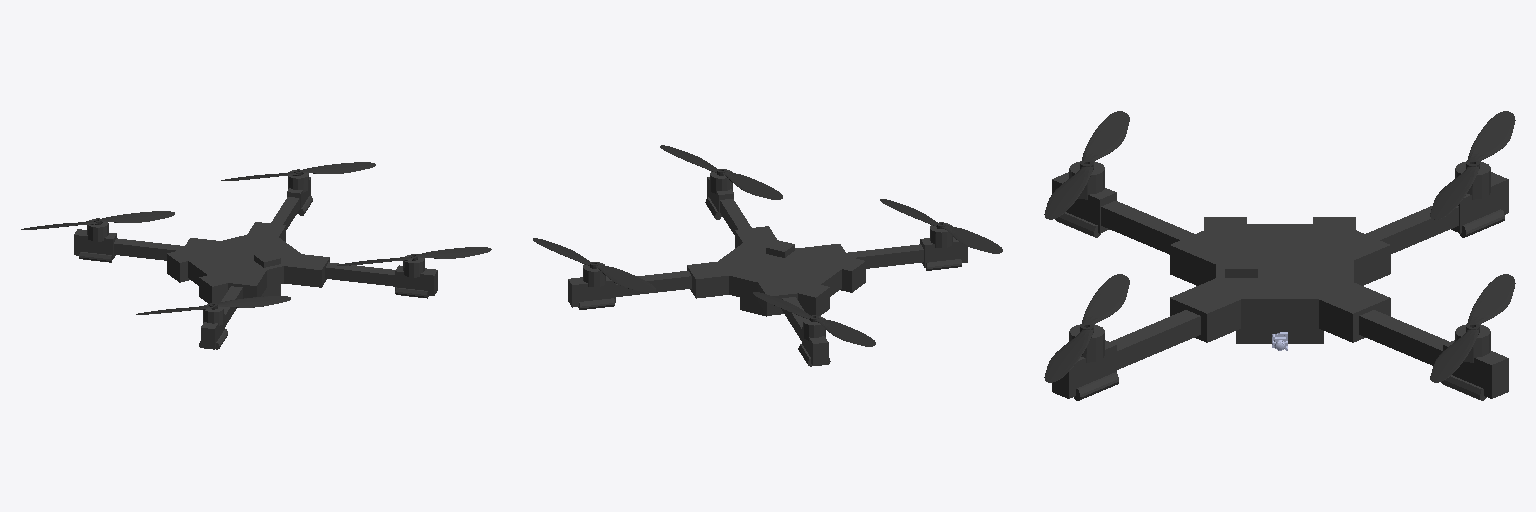
The robot description file, URDF, robot "frog_v2":
<?xml version="1.0" encoding="utf-8"?>
<!-- This URDF was automatically created by SolidWorks to URDF Exporter! Originally created by [author] ([email redacted]) 
     Commit Version: 1.5.1-0-g916b5db  Build Version: 1.5.7152.31018
     For more information, please see http://wiki.ros.org/sw_urdf_exporter -->
<robot
  name="frog_v2">
  <link
    name="base_link">
    <inertial>
      <origin
        xyz="-0.00299960531602334 0.000925780417924291 0.00663813217087633"
        rpy="0 0 0" />
      <mass
        value="1.05255015891803" />
      <inertia
        ixx="0.00192645755655797"
        ixy="1.37806252369402E-06"
        ixz="1.18685261964661E-07"
        iyy="0.00185880785608247"
        iyz="1.54609269435821E-09"
        izz="0.00363113089916627" />
    </inertial>
    <visual>
      <origin
        xyz="0 0 0"
        rpy="0 0 0" />
      <geometry>
        <mesh
          filename="model://robots/frog_v2/meshes/base_link.STL" />
      </geometry>
      <material
        name="">
        <color
          rgba="0.298039215686275 0.298039215686275 0.298039215686275 1" />
      </material>
    </visual>
    <collision>
      <origin
        xyz="0 0 0"
        rpy="0 0 0" />
      <geometry>
        <box size="0.52 0.52 0.16"/>
      </geometry>
      <!-- <origin
        xyz="0 0 0"
        rpy="0 0 0" />
      <geometry>
        <mesh
          filename="model://robots/frog_v2/meshes/base_link_col.STL" />
      </geometry> -->
    </collision>
  </link>
  <link
    name="prop_1">
    <inertial>
      <origin
        xyz="-5.65744966205817E-05 1.15709824216048E-05 -0.000132588817387688"
        rpy="0 0 0" />
      <mass
        value="0.033480102422425" />
      <inertia
        ixx="0.000185259926751763"
        ixy="-5.32093457830838E-05"
        ixz="2.24429568646842E-07"
        iyy="1.76760777869009E-05"
        iyz="4.06354928790603E-07"
        izz="0.000202707482260549" />
    </inertial>
    <visual>
      <origin
        xyz="0 0 0"
        rpy="0 0 0" />
      <geometry>
        <mesh
          filename="model://robots/frog_v2/meshes/prop_1.STL" />
      </geometry>
      <material
        name="">
        <color
          rgba="0.250980392156863 0.250980392156863 0.250980392156863 1" />
      </material>
    </visual>
    <collision>
      <origin
        xyz="0 0 0"
        rpy="0 0 0" />
      <geometry>
        <mesh
          filename="model://robots/frog_v2/meshes/prop_1_col.STL" />
      </geometry>
    </collision>
  </link>
  <joint
    name="prop_1_joint"
    type="revolute">
    <origin
      xyz="0.23937 -0.23937 0.073136"
      rpy="0 0 1.5708" />
    <parent
      link="base_link" />
    <child
      link="prop_1" />
    <axis
      xyz="0 0 -1" />
    <limit
      lower="-1E+16"
      upper="1E+16"
      effort="100"
      velocity="100" />
    <dynamics
      damping="0.004" />
  </joint>
  <link
    name="prop_2">
    <inertial>
      <origin
        xyz="-5.66044885891293E-05 1.15949242203428E-05 -0.000132594734223196"
        rpy="0 0 0" />
      <mass
        value="0.0334799929695856" />
      <inertia
        ixx="0.000185259920507297"
        ixy="-5.32093515361335E-05"
        ixz="2.24430513355787E-07"
        iyy="1.76760743208164E-05"
        iyz="4.06353674849625E-07"
        izz="0.000202707472860171" />
    </inertial>
    <visual>
      <origin
        xyz="0 0 0"
        rpy="0 0 0" />
      <geometry>
        <mesh
          filename="model://robots/frog_v2/meshes/prop_2.STL" />
      </geometry>
      <material
        name="">
        <color
          rgba="0.250980392156863 0.250980392156863 0.250980392156863 1" />
      </material>
    </visual>
    <collision>
      <origin
        xyz="0 0 0"
        rpy="0 0 0" />
      <geometry>
        <mesh
          filename="model://robots/frog_v2/meshes/prop_2_col.STL" />
      </geometry>
    </collision>
  </link>
  <joint
    name="prop_2_joint"
    type="revolute">
    <origin
      xyz="-0.23937 -0.23937 0.073136"
      rpy="0 0 1.5708" />
    <parent
      link="base_link" />
    <child
      link="prop_2" />
    <axis
      xyz="0 0 -1" />
    <limit
      lower="-1E+16"
      upper="1E+16"
      effort="100"
      velocity="100" />
    <dynamics
      damping="0.004" />
  </joint>
  <link
    name="prop_3">
    <inertial>
      <origin
        xyz="-5.66044881094574E-05 1.15949255357628E-05 -0.000132594734251062"
        rpy="0 0 0" />
      <mass
        value="0.0334799929697736" />
      <inertia
        ixx="0.000185259920508852"
        ixy="-5.32093515367757E-05"
        ixz="2.24430513413887E-07"
        iyy="1.76760743210929E-05"
        iyz="4.06353674978187E-07"
        izz="0.000202707472861994" />
    </inertial>
    <visual>
      <origin
        xyz="0 0 0"
        rpy="0 0 0" />
      <geometry>
        <mesh
          filename="model://robots/frog_v2/meshes/prop_3.STL" />
      </geometry>
      <material
        name="">
        <color
          rgba="0.250980392156863 0.250980392156863 0.250980392156863 1" />
      </material>
    </visual>
    <collision>
      <origin
        xyz="0 0 0"
        rpy="0 0 0" />
      <geometry>
        <mesh
          filename="model://robots/frog_v2/meshes/prop_3_col.STL" />
      </geometry>
    </collision>
  </link>
  <joint
    name="prop_3_joint"
    type="revolute">
    <origin
      xyz="-0.23937 0.23937 0.073137"
      rpy="0 0 1.5708" />
    <parent
      link="base_link" />
    <child
      link="prop_3" />
    <axis
      xyz="0 0 -1" />
    <limit
      lower="-1E+16"
      upper="1E+16"
      effort="100"
      velocity="100" />
    <dynamics
      damping="0.004" />
  </joint>
  <link
    name="prop_4">
    <inertial>
      <origin
        xyz="-5.66044880474792E-05 1.1594925442393E-05 -0.000132594734234714"
        rpy="0 0 0" />
      <mass
        value="0.0334799929695797" />
      <inertia
        ixx="0.000185259920507247"
        ixy="-5.32093515361025E-05"
        ixz="2.24430513407408E-07"
        iyy="1.76760743208018E-05"
        iyz="4.06353674961871E-07"
        izz="0.000202707472860101" />
    </inertial>
    <visual>
      <origin
        xyz="0 0 0"
        rpy="0 0 0" />
      <geometry>
        <mesh
          filename="model://robots/frog_v2/meshes/prop_4.STL" />
      </geometry>
      <material
        name="">
        <color
          rgba="0.250980392156863 0.250980392156863 0.250980392156863 1" />
      </material>
    </visual>
    <collision>
      <origin
        xyz="0 0 0"
        rpy="0 0 0" />
      <geometry>
        <mesh
          filename="model://robots/frog_v2/meshes/prop_4_col.STL" />
      </geometry>
    </collision>
  </link>
  <joint
    name="prop_4_joint"
    type="revolute">
    <origin
      xyz="0.23937 0.23937 0.073137"
      rpy="0 0 1.5708" />
    <parent
      link="base_link" />
    <child
      link="prop_4" />
    <axis
      xyz="0 0 -1" />
    <limit
      lower="-1E+16"
      upper="1E+16"
      effort="100"
      velocity="100" />
    <dynamics
      damping="0.004" />
  </joint>
  <link
    name="fpv_cam">
    <inertial>
      <origin
        xyz="-0.000284522561700459 2.24478693088385E-05 -2.47604221920578E-05"
        rpy="0 0 0" />
      <mass
        value="0.0030555548772708" />
      <inertia
        ixx="1.19469208624835E-07"
        ixy="5.01779840354612E-11"
        ixz="1.07145862877786E-09"
        iyy="6.57719949191097E-08"
        iyz="7.87453663944317E-09"
        izz="7.45619479559184E-08" />
    </inertial>
    <visual>
      <origin
        xyz="0 0 0"
        rpy="0 0 0" />
      <geometry>
        <mesh
          filename="model://robots/frog_v2/meshes/fpv_cam.STL" />
      </geometry>
      <material
        name="">
        <color
          rgba="0.792156862745098 0.819607843137255 0.933333333333333 1" />
      </material>
    </visual>
    <collision>
      <origin
        xyz="0 0 0"
        rpy="0 0 0" />
      <geometry>
        <mesh
          filename="model://robots/frog_v2/meshes/fpv_cam.STL" />
      </geometry>
    </collision>
  </link>
  <joint
    name="fpv_cam_joint"
    type="revolute">
    <origin
      xyz="0.092345 -1.7472E-05 -0.015"
      rpy="0 0.017453 0" />
    <parent
      link="base_link" />
    <child
      link="fpv_cam" />
    <axis
      xyz="0 1 0" />
    <limit
      lower="-0.61087"
      upper="1.5708"
      effort="100"
      velocity="100" />
    <dynamics
      damping="0.004" />
  </joint>
  <link
    name="D435">
    <inertial>
      <origin
        xyz="-0.000102529599412184 0.0004096441357057 0.000114713525274722"
        rpy="0 0 0" />
      <mass
        value="0.0553981578894608" />
      <inertia
        ixx="4.30081410924908E-05"
        ixy="3.16330256669316E-07"
        ixz="-1.37235008905661E-07"
        iyy="5.20161056831453E-06"
        iyz="1.91602335582947E-08"
        izz="4.24188446099882E-05" />
    </inertial>
    <visual>
      <origin
        xyz="0 0 0"
        rpy="0 0 0" />
      <geometry>
        <mesh
          filename="model://robots/frog_v2/meshes/D435.STL" />
      </geometry>
      <material
        name="">
        <color
          rgba="0.792156862745098 0.819607843137255 0.933333333333333 1" />
      </material>
    </visual>
    <collision>
      <origin
        xyz="0 0 0"
        rpy="0 0 0" />
      <geometry>
        <mesh
          filename="model://robots/frog_v2/meshes/D435.STL" />
      </geometry>
    </collision>
  </link>
  <joint
    name="D435_joint"
    type="revolute">
    <origin
      xyz="0.052 0 0.0186"
      rpy="0 0 0" />
    <parent
      link="base_link" />
    <child
      link="D435" />
    <axis
      xyz="0 1 0" />
    <limit
      lower="-0.61087"
      upper="1.5708"
      effort="100"
      velocity="100" />
    <dynamics
      damping="0.004" />
  </joint>
</robot>

--- Facts derived from the render (not from the file) ---
3 views of the same robot in one strip: view 1: azimuth 30°, elevation 25°; view 2: azimuth 150°, elevation 25°; view 3: azimuth 270°, elevation 25° (orthographic).
Robot: frog_v2 — 7 links, 6 joints (6 revolute); root link base_link; default pose: every joint at zero.
Links seen in each view (by area): view 1: base_link, prop_1, prop_2, prop_3, prop_4; view 2: base_link, prop_4, prop_1, prop_2, prop_3; view 3: base_link, prop_3, prop_4, prop_1, prop_2.
Link boxes in pixels (<box>): base_link: <box>74,170,437,349</box>; prop_1: <box>337,247,491,265</box>; prop_2: <box>136,296,290,314</box>; prop_3: <box>21,211,174,229</box>; prop_4: <box>221,162,375,180</box>; base_link: <box>568,169,967,366</box>; prop_4: <box>533,238,655,292</box>; prop_1: <box>660,145,782,199</box>; prop_2: <box>880,199,1002,253</box>; prop_3: <box>753,292,875,346</box>; base_link: <box>1052,161,1508,400</box>; prop_3: <box>1430,111,1515,219</box>; prop_4: <box>1430,274,1515,382</box>; prop_1: <box>1044,274,1129,382</box>; prop_2: <box>1044,111,1129,219</box>.
Size in the robot's own frame: 0.7969 by 0.5845 by 0.1235 metres.
7 mesh visuals loaded from 7 distinct referenced files (7 binary STL).
